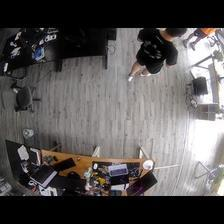normal: (126, 27, 188, 82)
